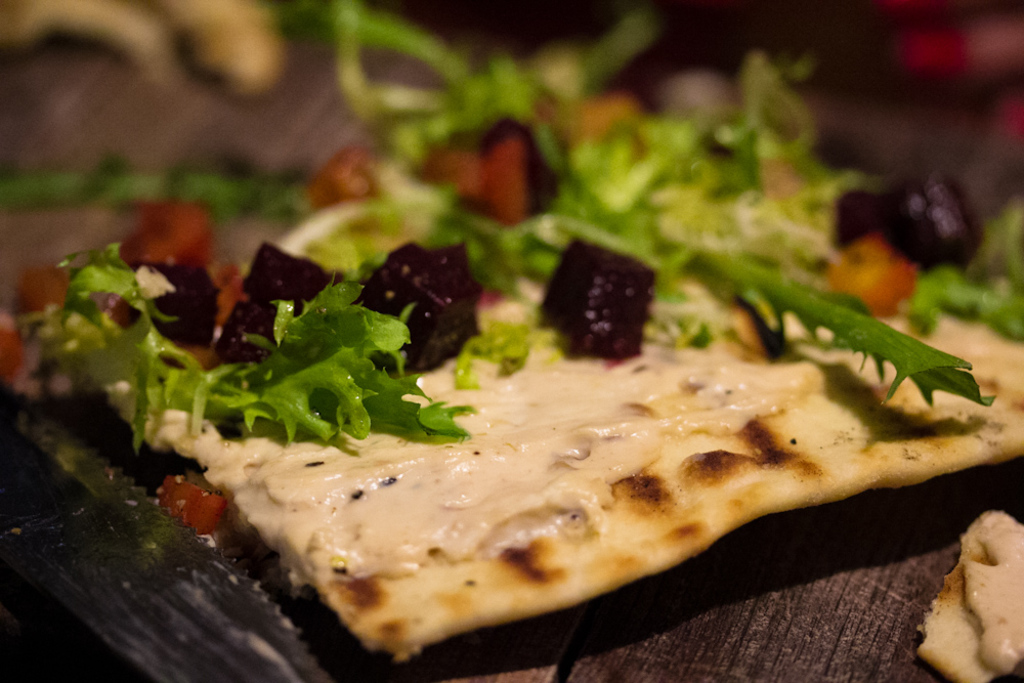Pizza: (74, 181, 978, 683)
